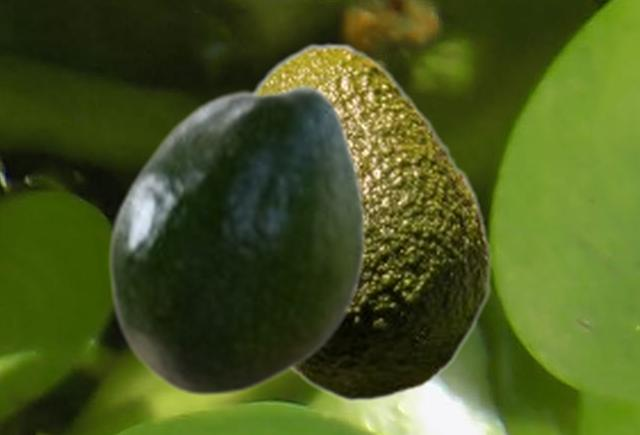avocado: (250, 42, 492, 401), (106, 82, 366, 397)
